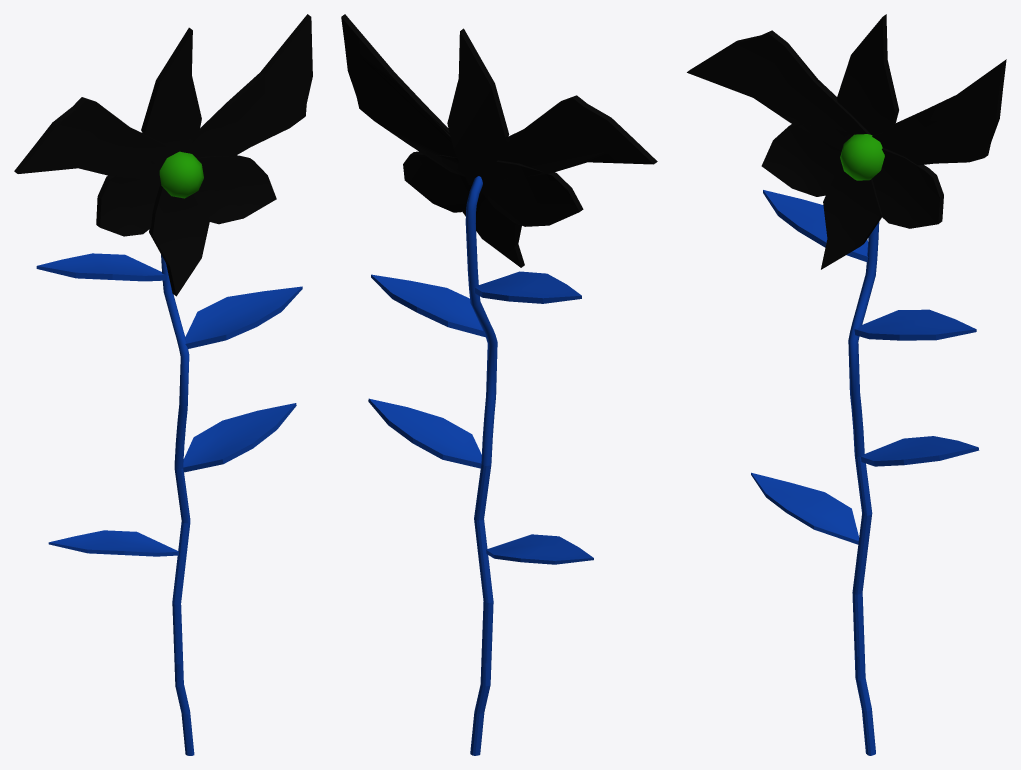
File: DragonFlower_AD.fbx
3 views of the same model, side by side, from view 1: azimuth 30°, elevation 25°; view 2: azimuth 150°, elevation 25°; view 3: azimuth 330°, elevation 25° (orthographic). The views are drawn at different scales.
Visible parts, largest first — view 1: DragonFlower_AD; view 2: DragonFlower_AD; view 3: DragonFlower_AD.
Boxes of the visible parts, <box> form: DragonFlower_AD: <box>14,14,312,755</box>; DragonFlower_AD: <box>341,14,657,755</box>; DragonFlower_AD: <box>687,14,1006,755</box>.
Bounding box in the file's own units: 33.29 × 75.92 × 9.9.
